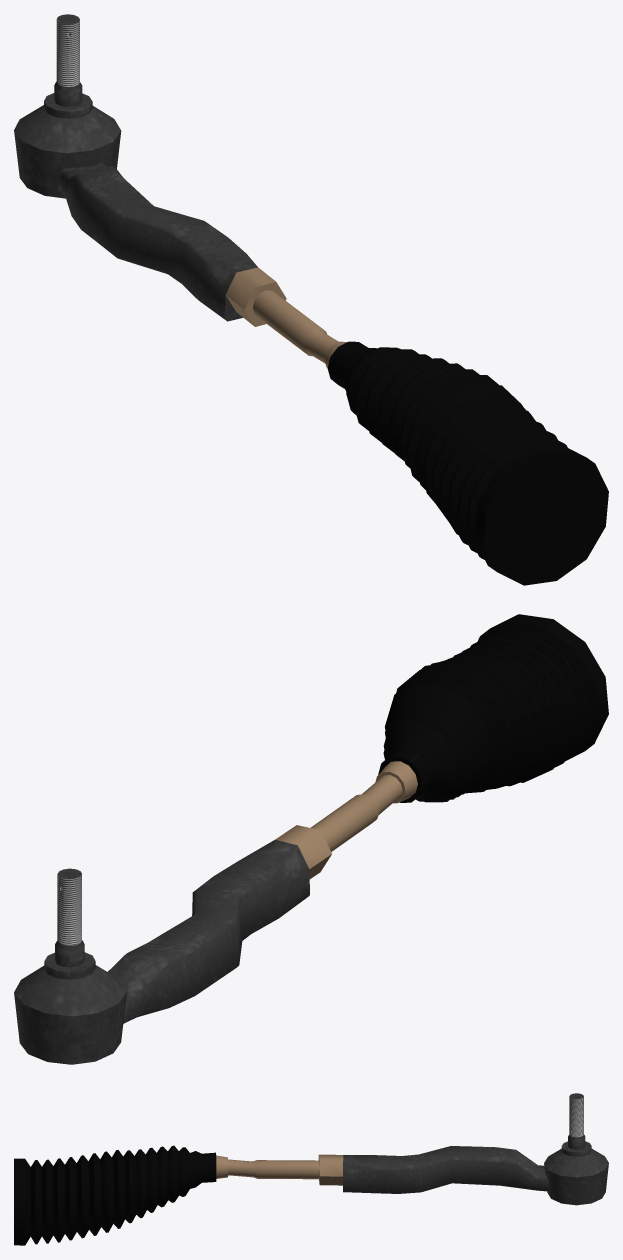
Rendered from E5_转向系统_转向横拉杆.FBX.
3 renders of one model, top to bottom at view 1: azimuth 30°, elevation 25°; view 2: azimuth 150°, elevation 25°; view 3: azimuth 270°, elevation 25°, orthographic. The views are drawn at different scales.
Parts seen in each view (by area): view 1: ZXHLG_1; view 2: ZXHLG_1; view 3: ZXHLG_1.
Boxes of the visible parts, box(x1,y1,x2,y2) form: ZXHLG_1: box(14, 14, 608, 585); ZXHLG_1: box(14, 614, 608, 1064); ZXHLG_1: box(14, 1093, 608, 1245).
Size of the model in its own units: 7.22 by 11.72 by 44.81.
